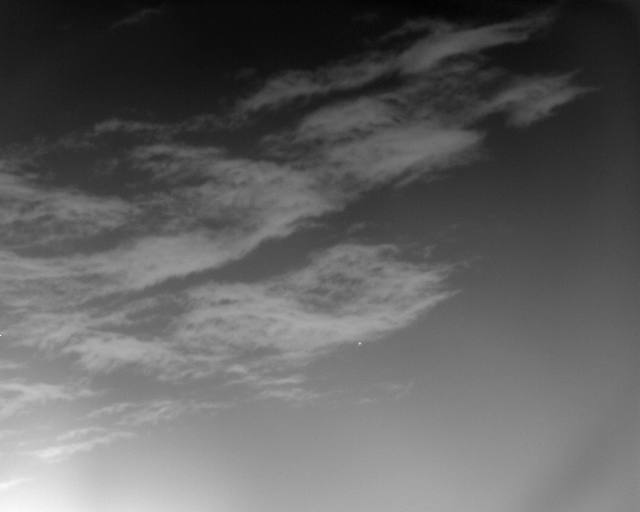Target: (358, 342, 360, 345)
